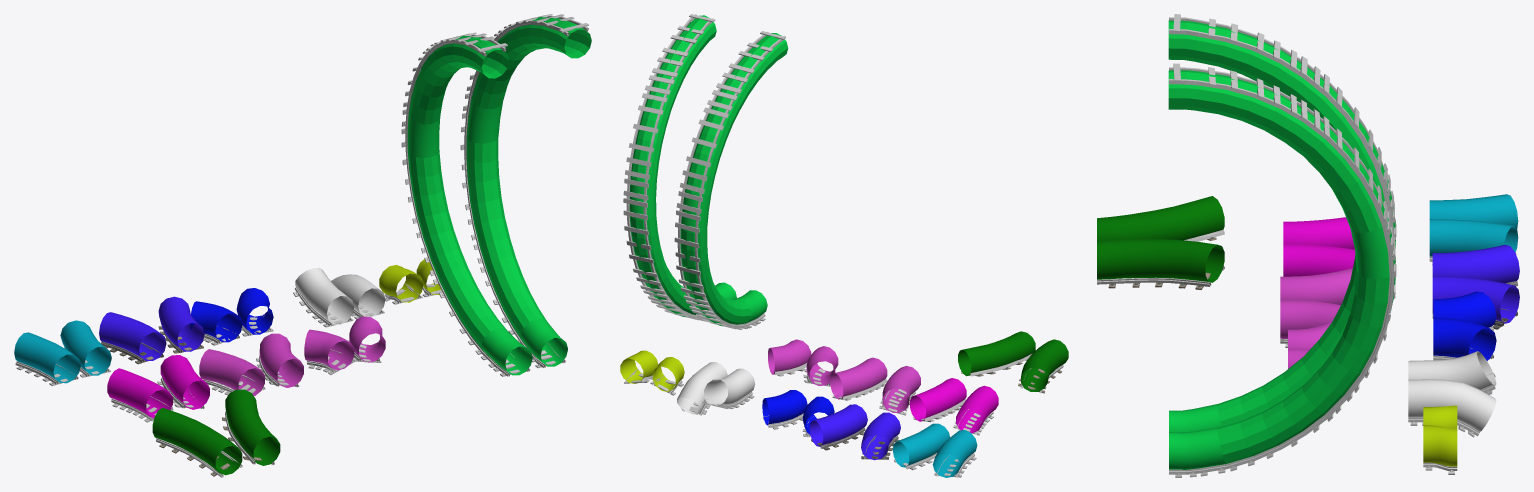
Rendered from Railparts0506.FBX.
The picture shows the model from 3 angles, left to right: view 1: azimuth 30°, elevation 25°; view 2: azimuth 150°, elevation 25°; view 3: azimuth 270°, elevation 25°; orthographic projection. The views are drawn at different scales.
Visible parts, largest first — view 1: Cylinder061, Cylinder047, Cylinder066, rail stright115, Cylinder072, rail stright107, Cylinder057, Cylinder056, Cylinder058, Cylinder009, Cylinder064, Cylinder048 (+9 smaller); view 2: Cylinder061, Cylinder047, rail stright115, rail stright107, Cylinder072, Cylinder063, Cylinder066, Cylinder026, Cylinder048, Cylinder040, Cylinder009, Cylinder056 (+10 smaller); view 3: Cylinder047, Cylinder061, rail stright107, Cylinder072, rail stright115, Cylinder066, Cylinder010, Cylinder026, Cylinder057, Cylinder043, Cylinder056, Cylinder009 (+10 smaller).
Boxes of the visible parts, x1=… form: Cylinder061: x1=407, y1=35, x2=532, y2=375; Cylinder047: x1=466, y1=17, x2=591, y2=366; Cylinder066: x1=152, y1=407, x2=242, y2=475; rail stright115: x1=401, y1=32, x2=530, y2=376; Cylinder072: x1=225, y1=389, x2=280, y2=465; rail stright107: x1=460, y1=14, x2=588, y2=368; Cylinder057: x1=99, y1=312, x2=166, y2=360; Cylinder056: x1=14, y1=332, x2=80, y2=383; Cylinder058: x1=107, y1=368, x2=172, y2=417; Cylinder009: x1=295, y1=268, x2=354, y2=324; Cylinder064: x1=199, y1=349, x2=264, y2=395; Cylinder048: x1=160, y1=355, x2=209, y2=409; Cylinder061: x1=680, y1=33, x2=788, y2=326; Cylinder047: x1=629, y1=15, x2=736, y2=317; rail stright115: x1=674, y1=31, x2=785, y2=329; rail stright107: x1=623, y1=14, x2=715, y2=320; Cylinder072: x1=958, y1=331, x2=1035, y2=376; Cylinder063: x1=809, y1=404, x2=867, y2=446; Cylinder066: x1=1021, y1=339, x2=1068, y2=391; Cylinder026: x1=892, y1=423, x2=949, y2=467; Cylinder048: x1=910, y1=378, x2=966, y2=421; Cylinder040: x1=830, y1=357, x2=887, y2=399; Cylinder009: x1=704, y1=368, x2=755, y2=406; Cylinder056: x1=932, y1=430, x2=977, y2=477; Cylinder047: x1=1168, y1=70, x2=1395, y2=469; Cylinder061: x1=1168, y1=20, x2=1396, y2=432; rail stright107: x1=1169, y1=63, x2=1396, y2=477; Cylinder072: x1=1097, y1=239, x2=1224, y2=282; rail stright115: x1=1169, y1=14, x2=1396, y2=253; Cylinder066: x1=1097, y1=196, x2=1224, y2=241; Cylinder010: x1=1408, y1=379, x2=1496, y2=431; Cylinder026: x1=1429, y1=219, x2=1518, y2=256; Cylinder057: x1=1432, y1=244, x2=1519, y2=283; Cylinder043: x1=1433, y1=318, x2=1496, y2=360; Cylinder056: x1=1429, y1=194, x2=1518, y2=228; Cylinder009: x1=1408, y1=351, x2=1496, y2=389.
Size of the model in its own units: 2253 by 1667 by 1500.
